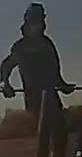gloves: (0, 78, 17, 99)
vest: (15, 36, 61, 105)
